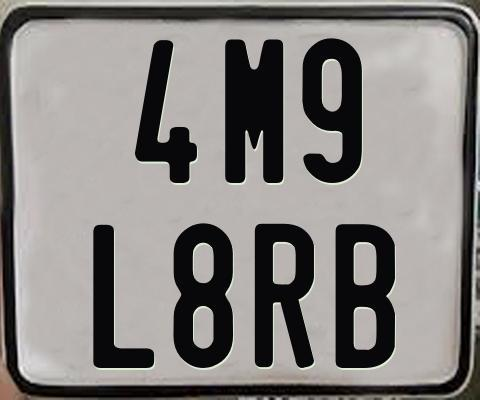4: (133, 37, 200, 184)
8: (172, 221, 234, 368)
9: (302, 36, 363, 182)
B: (333, 223, 394, 369)
L: (93, 222, 156, 369)
M: (224, 36, 285, 183)
R: (252, 223, 317, 368)
